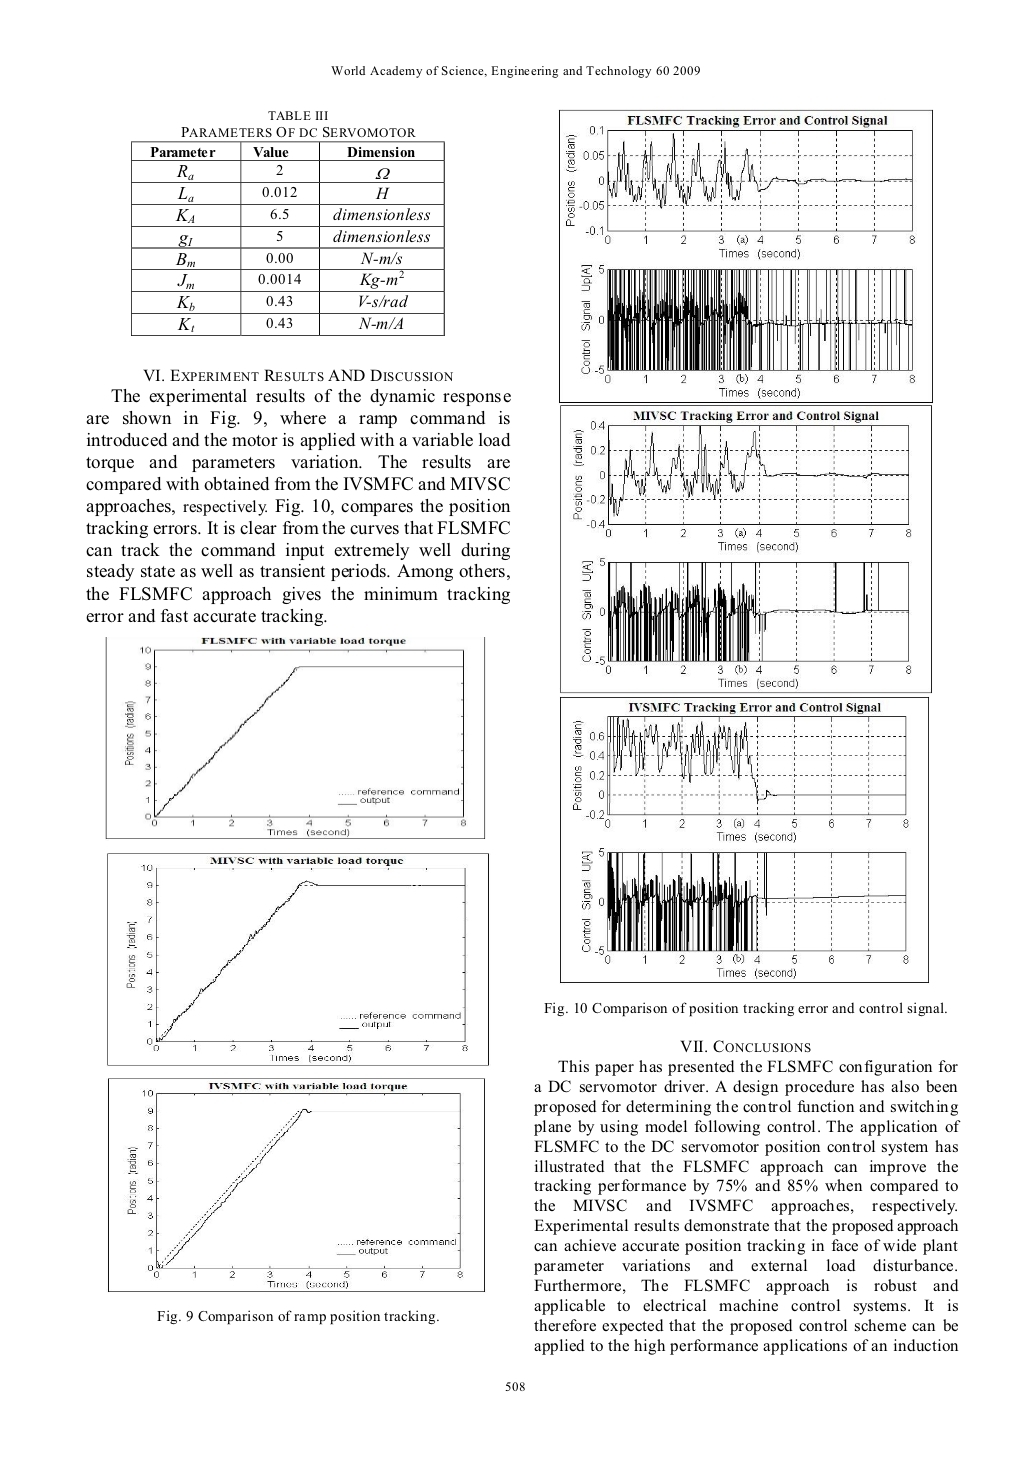Table: (131, 125, 445, 336)
figure: (558, 109, 931, 402), (560, 405, 931, 693), (560, 697, 928, 982), (107, 852, 488, 1066), (108, 1077, 484, 1292), (105, 635, 485, 839)
